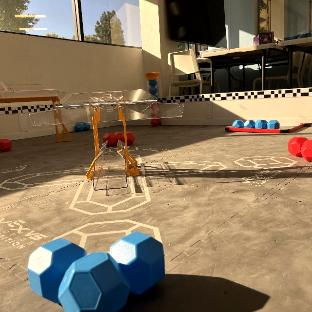V5_BLUE: (28, 232, 162, 312), (233, 120, 279, 128), (76, 123, 90, 130)
V5_RED: (288, 136, 312, 160), (103, 133, 123, 144), (0, 138, 12, 152)
